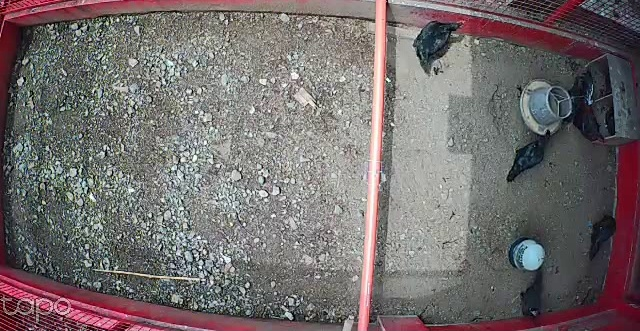Chicken: (413, 14, 466, 73), (504, 128, 553, 184), (581, 213, 619, 263), (510, 268, 545, 321)
Drinker: (509, 236, 546, 272)
Feeder: (518, 75, 573, 135)
Rooster: (566, 70, 608, 147)
